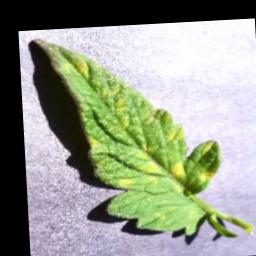Leaf_Mold: (136, 141, 162, 188), (163, 122, 185, 142), (72, 57, 90, 80), (167, 159, 185, 178), (197, 168, 217, 181), (117, 174, 134, 189), (198, 139, 216, 153), (85, 133, 99, 149)
